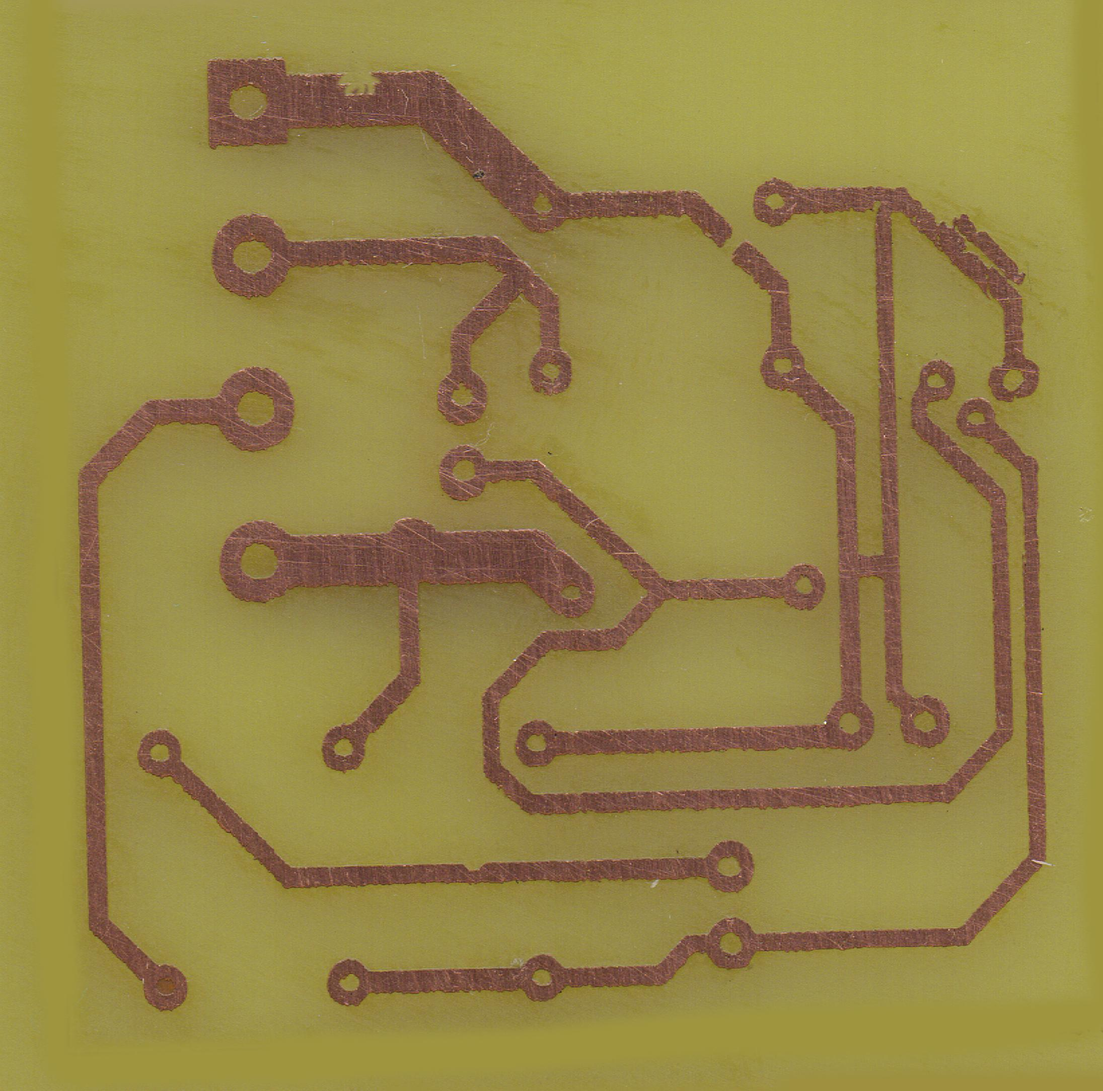mouse_bite: (322, 59, 393, 141), (455, 860, 491, 892)
open_circuit: (709, 224, 753, 268)
short: (836, 545, 909, 593)
spur: (379, 514, 449, 588)
spurious_copper: (952, 210, 1033, 294)
